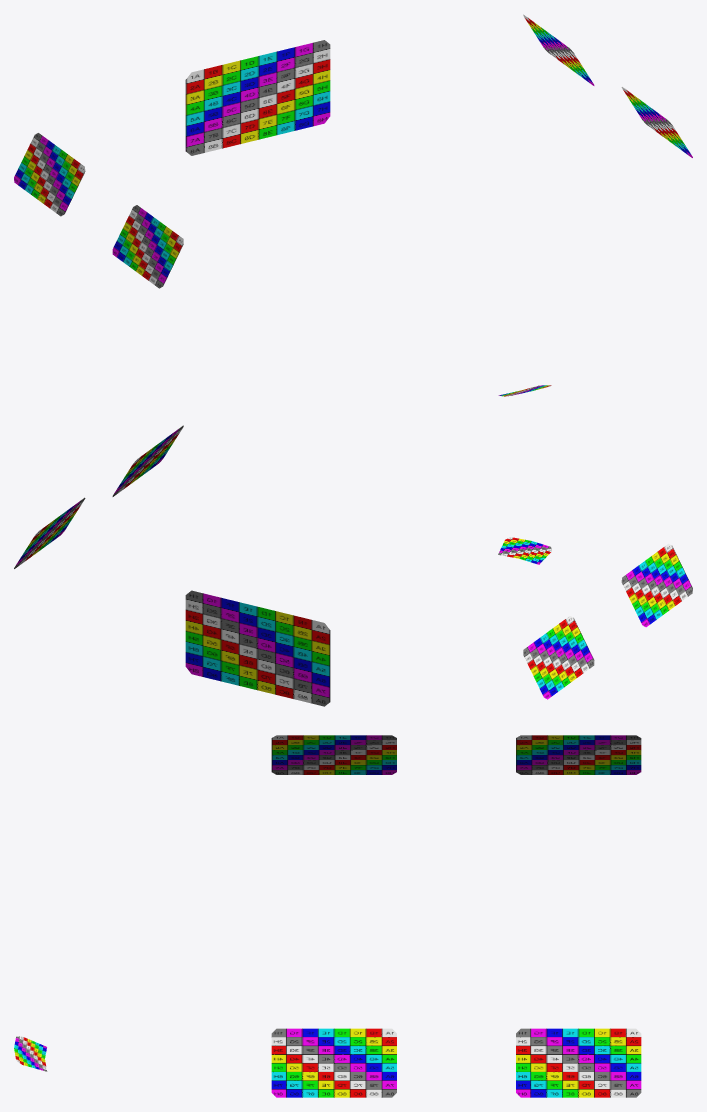
The model's file is screensUpdated.fbx.
The picture shows the model from 3 angles, top to bottom: view 1: azimuth 30°, elevation 25°; view 2: azimuth 150°, elevation 25°; view 3: azimuth 270°, elevation 25°; orthographic projection. The views are drawn at different scales.
Parts seen in each view (by area): view 1: polySurface914, polySurface920, polySurface922, polySurface918, polySurface916; view 2: polySurface914, polySurface922, polySurface920, polySurface916, polySurface918, polySurface909; view 3: polySurface918, polySurface916, polySurface922, polySurface920, polySurface909.
Boxes of the visible parts, x1,y1,x2,y2 form: polySurface914: [185, 40, 330, 155]; polySurface920: [112, 205, 183, 288]; polySurface922: [14, 133, 85, 216]; polySurface918: [621, 87, 692, 157]; polySurface916: [523, 14, 594, 85]; polySurface914: [185, 590, 330, 706]; polySurface922: [523, 616, 594, 699]; polySurface920: [621, 543, 692, 627]; polySurface916: [14, 497, 85, 568]; polySurface918: [112, 425, 183, 496]; polySurface909: [498, 537, 551, 564]; polySurface918: [271, 1028, 396, 1097]; polySurface916: [516, 1028, 641, 1097]; polySurface922: [516, 735, 641, 774]; polySurface920: [271, 735, 396, 774]; polySurface909: [14, 1036, 47, 1071].
Bounding box in the file's own units: 530 × 136 × 471.
